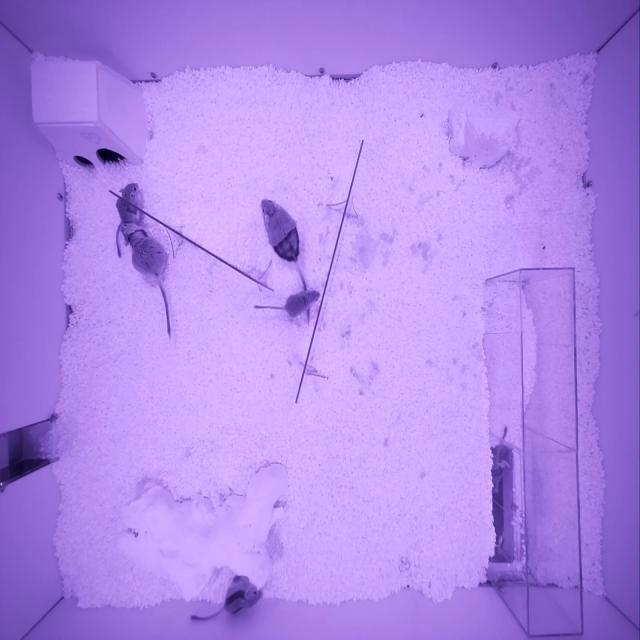adult_back: (261, 199, 299, 263)
adult_front: (121, 223, 168, 278)
pup_fluffy: (285, 290, 320, 318)
pup_spotted: (116, 183, 141, 225)
pup_v_stripe: (223, 580, 263, 617)
